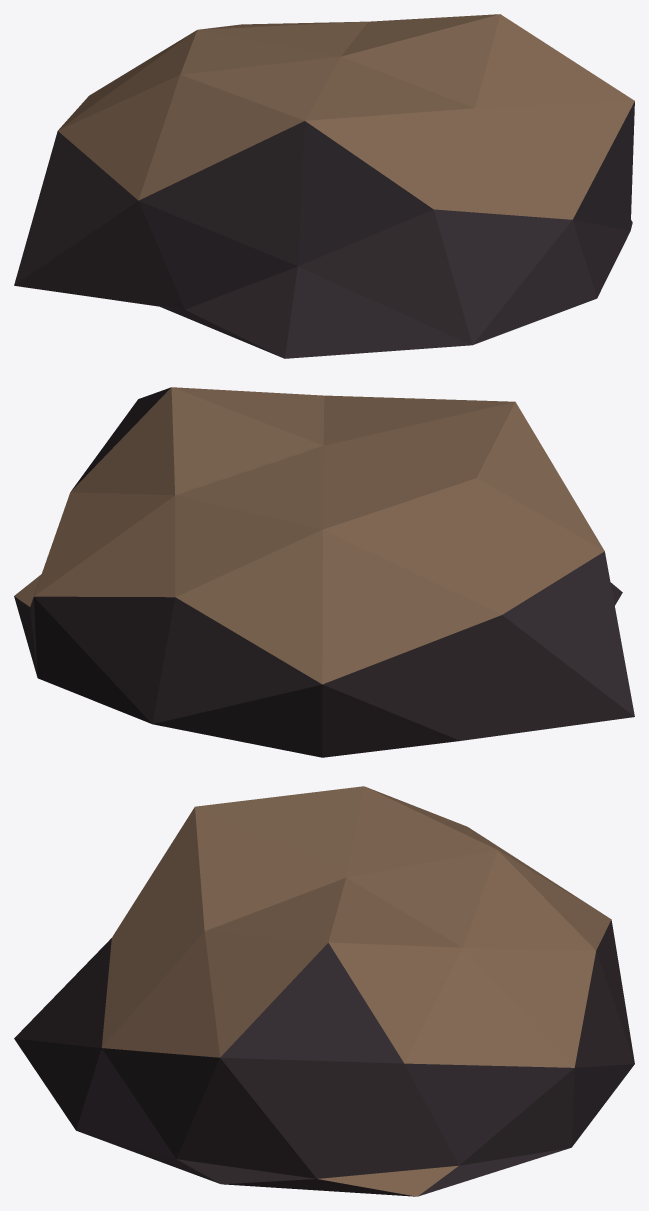
Rendered from boulder_l1.glb.
The picture shows the model from 3 angles, top to bottom: view 1: azimuth 30°, elevation 25°; view 2: azimuth 150°, elevation 25°; view 3: azimuth 270°, elevation 25°; orthographic projection. The views are drawn at different scales.
Parts seen in each view (by area): view 1: body__M_Cliff_Licorice, body__M_Cliff_Crust_T0; view 2: body__M_Cliff_Crust_T0, body__M_Cliff_Licorice; view 3: body__M_Cliff_Crust_T0, body__M_Cliff_Licorice.
Boxes of the visible parts, x1,y1,x2,y2 form: body__M_Cliff_Licorice: [14, 101, 634, 358]; body__M_Cliff_Crust_T0: [58, 14, 634, 219]; body__M_Cliff_Crust_T0: [14, 387, 604, 684]; body__M_Cliff_Licorice: [14, 387, 634, 757]; body__M_Cliff_Crust_T0: [101, 786, 611, 1196]; body__M_Cliff_Licorice: [14, 920, 634, 1196].
Bounding box in the file's own units: 0.9465 × 0.3095 × 0.8566.
